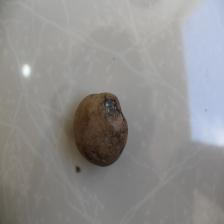Diseased-fungal potato: (71, 91, 129, 168)
